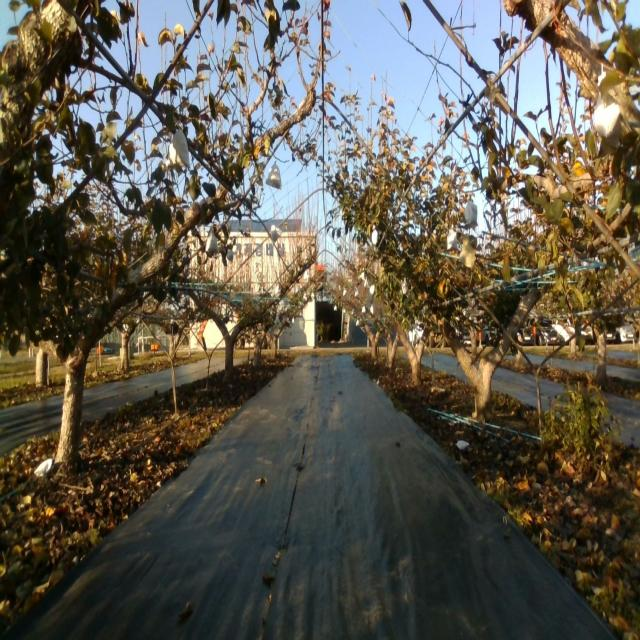pearbags: (592, 92, 620, 137), (166, 130, 190, 169), (266, 161, 282, 189), (464, 200, 477, 230), (206, 232, 219, 255), (447, 228, 458, 250)
